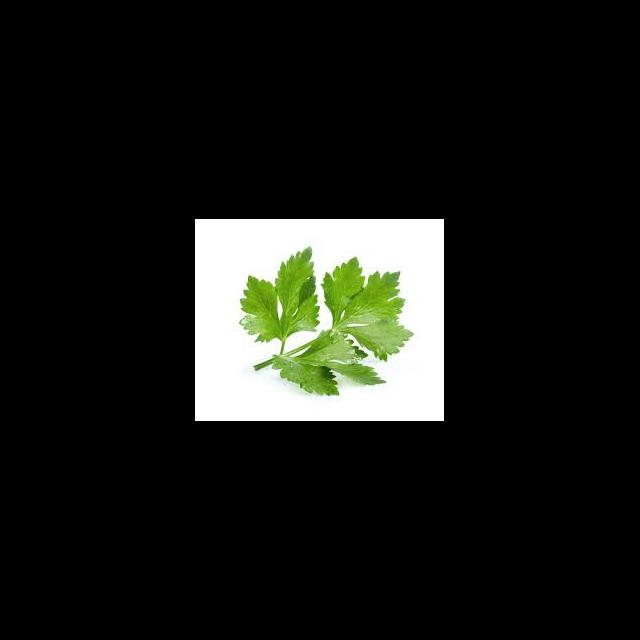cilantro: (240, 247, 414, 397)
